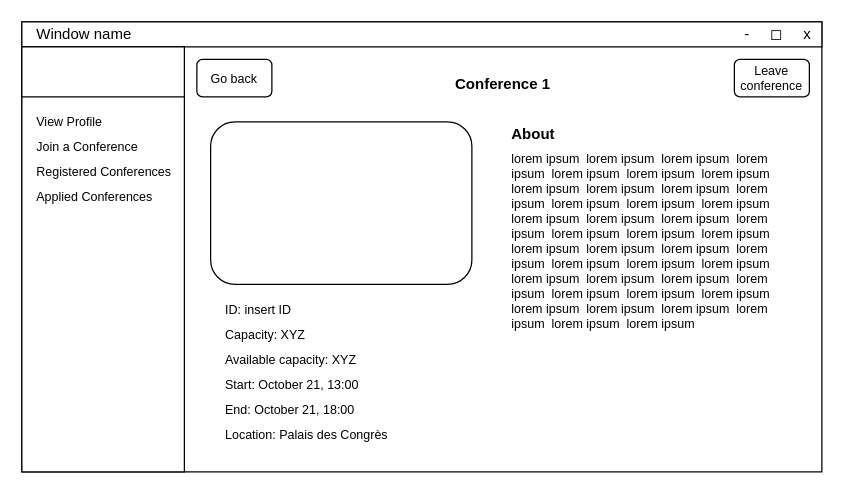
Image size: 844x494. Some labels were removed from this diagram. Here are the shapes that lost their labels. From the top down, the centre of each, then its label:
[102,71]: ConCentral
[340,202]: Insert image
